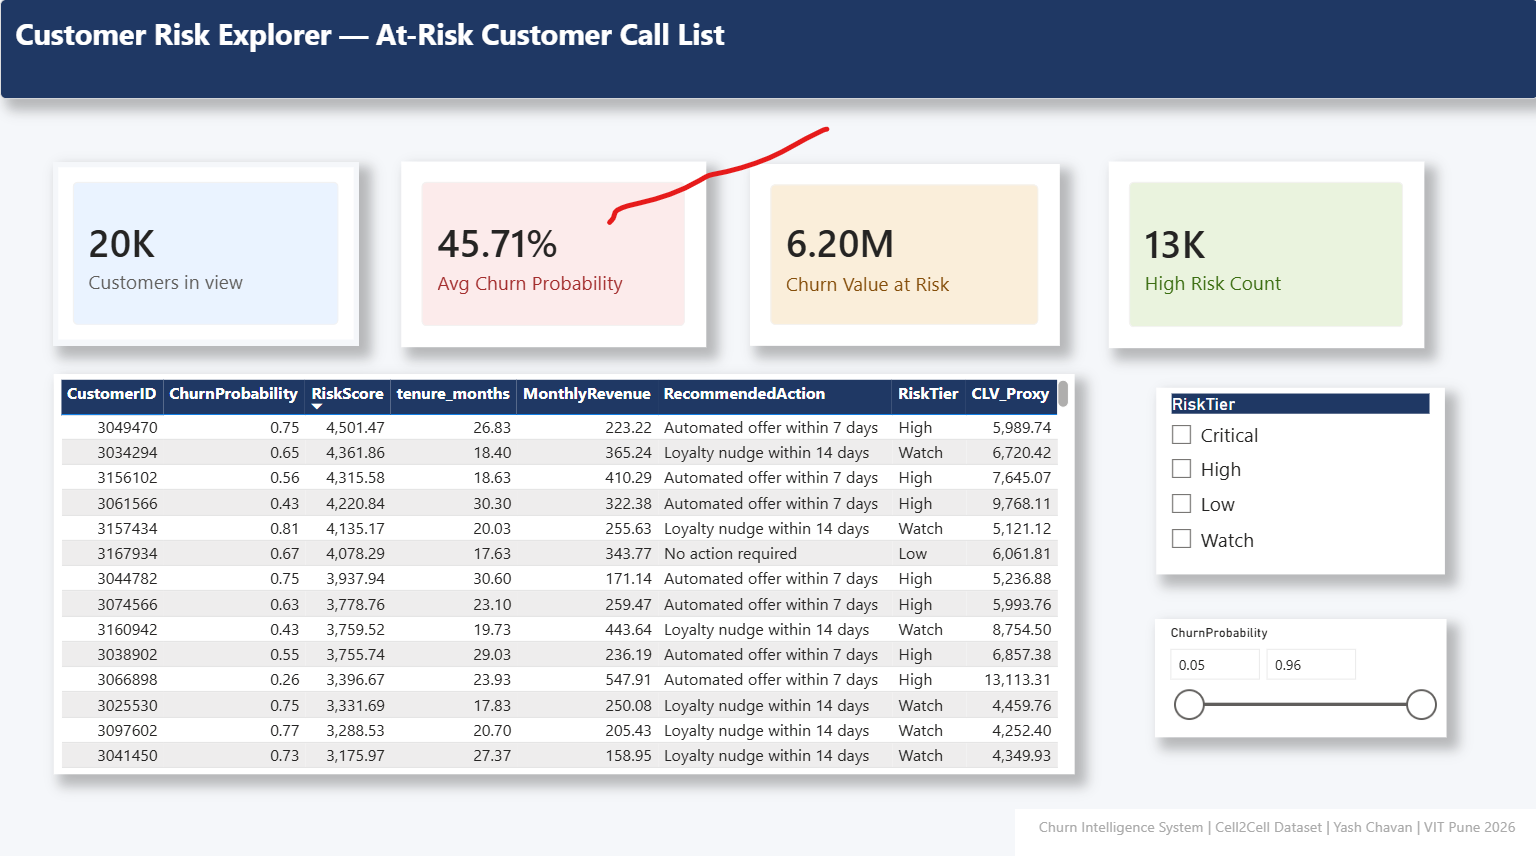

The page's visual inventory and layout, read from the dashboard file:
{"tool":"powerbi","page":{"name":"Customer Risk Explorer","canvas":[1280,720],"ordinal":1},"visuals":[{"type":"textbox","box":[0,4.4,1278.9,83.3],"z":0},{"type":"cardVisual","fields":{"Data":["holdout_scored.Total Customers"]},"box":[43.8,139,255,153.5],"z":1000},{"type":"cardVisual","fields":{"Data":["holdout_scored.Avg Churn Probability"]},"box":[333.8,138.8,253.8,154.2],"z":2000},{"type":"cardVisual","fields":{"Data":["holdout_scored.Churn Value at Risk"]},"box":[623.8,141.8,257.5,151.2],"z":3000},{"type":"tableEx","fields":{"Values":["holdout_scored.CustomerID","holdout_scored.ChurnProbability","holdout_scored.RiskScore","holdout_scored.tenure_months","holdout_scored.MonthlyRevenue","holdout_scored.RecommendedAction","holdout_scored.RiskTier","holdout_scored.CLV_Proxy"]},"box":[44.3,315.8,848.8,332.5],"z":4000},{"type":"slicer","fields":{"Values":["holdout_scored.RiskTier"]},"box":[961.2,327.8,240,155],"z":6000},{"type":"slicer","fields":{"Values":["holdout_scored.ChurnProbability"]},"box":[960.5,519.3,242.5,98.8],"z":7000},{"type":"cardVisual","fields":{"Data":["holdout_scored.High Risk Count"]},"box":[922,139.5,262.5,155],"z":8000},{"type":"textbox","box":[844,677.5,436,42.5],"z":9000}]}

Visuals, with their boxes in screenshot pixels (x1, y1, x2, y2), scaled from the page's 1280x720 canvas onto the 1536x856 screenshot:
textbox: <bbox>0, 5, 1535, 104</bbox>
cardVisual - holdout_scored.Total Customers: <bbox>53, 165, 359, 348</bbox>
cardVisual - holdout_scored.Avg Churn Probability: <bbox>401, 165, 705, 348</bbox>
cardVisual - holdout_scored.Churn Value at Risk: <bbox>749, 169, 1058, 348</bbox>
tableEx - holdout_scored.CustomerID x holdout_scored.ChurnProbability: <bbox>53, 375, 1072, 771</bbox>
slicer - holdout_scored.RiskTier: <bbox>1153, 390, 1441, 574</bbox>
slicer - holdout_scored.ChurnProbability: <bbox>1153, 617, 1444, 735</bbox>
cardVisual - holdout_scored.High Risk Count: <bbox>1106, 166, 1421, 350</bbox>
textbox: <bbox>1013, 805, 1535, 855</bbox>
